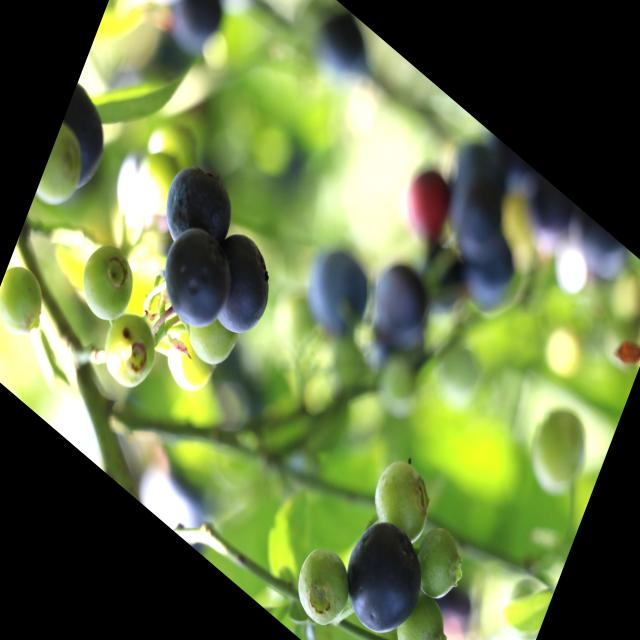blueberry: (329, 498, 435, 640), (197, 217, 287, 354), (152, 213, 241, 346), (153, 148, 239, 272), (297, 233, 377, 356), (47, 84, 119, 200), (367, 253, 434, 348), (316, 5, 377, 93)
blueberry-unripe: (93, 296, 169, 408), (363, 446, 438, 556), (71, 227, 144, 336), (286, 534, 356, 638), (35, 118, 95, 222), (179, 296, 245, 388), (408, 518, 468, 611), (158, 323, 218, 406), (0, 253, 52, 346), (390, 590, 454, 640)
